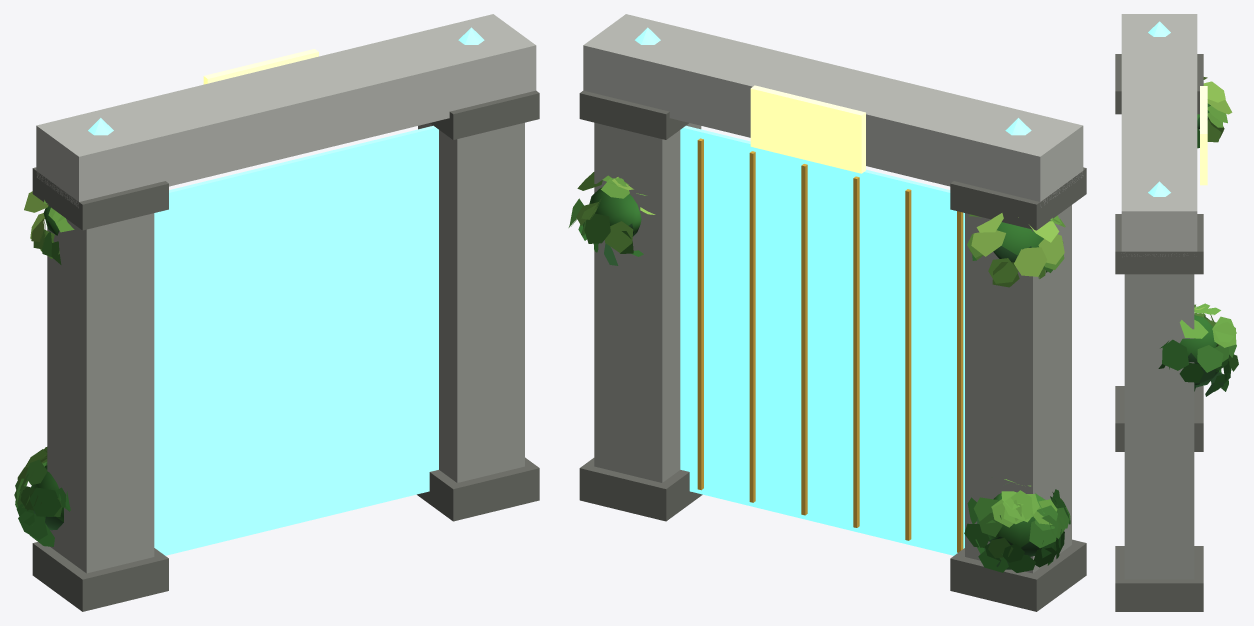
File: ZoneGate.glb
The picture shows the model from 3 angles, left to right: view 1: azimuth 30°, elevation 25°; view 2: azimuth 150°, elevation 25°; view 3: azimuth 270°, elevation 25°; orthographic projection. The views are drawn at different scales.
Parts seen in each view (by area): view 1: Body, Glow, HoverSignGlow; view 2: Body, Glow, HoverSignGlow; view 3: Body, HoverSignGlow, Glow.
Boxes of the visible parts, x1,y1,x2,y2 form: Body: [14, 14, 539, 611]; Glow: [88, 27, 484, 555]; HoverSignGlow: [203, 49, 318, 84]; Body: [568, 14, 1086, 611]; Glow: [635, 27, 1031, 555]; HoverSignGlow: [750, 85, 865, 173]; Body: [1115, 14, 1238, 611]; HoverSignGlow: [1200, 86, 1207, 185]; Glow: [1148, 21, 1170, 196].
Size of the model in its own units: 7.91 by 7.2 by 1.97.
Materials: 3 (1 with a texture image).
